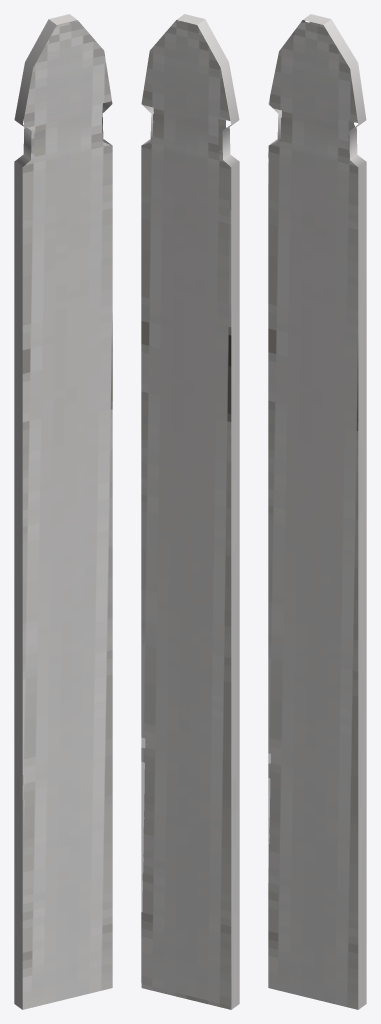
Rendered from WhitefencePost.obj.
3 views of the same model, side by side, from view 1: azimuth 30°, elevation 25°; view 2: azimuth 150°, elevation 25°; view 3: azimuth 330°, elevation 25° (orthographic).
Parts seen in each view (by area): view 1: pCube1; view 2: pCube1; view 3: pCube1.
Part boxes in pixels (x1,y1,x2,y2): pCube1: [14, 14, 112, 1009]; pCube1: [141, 14, 239, 1009]; pCube1: [268, 14, 366, 1009].
Size of the model in its own units: 0.1616 by 1.68 by 0.0253.
1 material, 1 textured.
